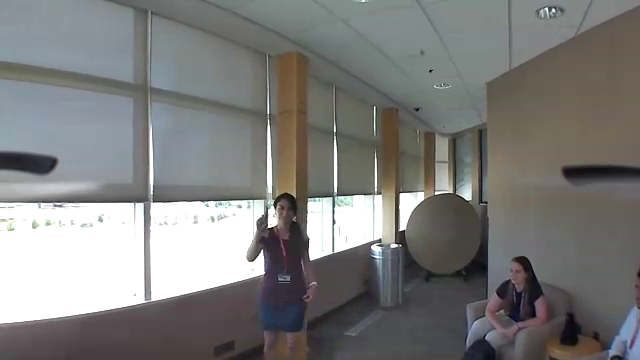up: (250, 202, 272, 241)
